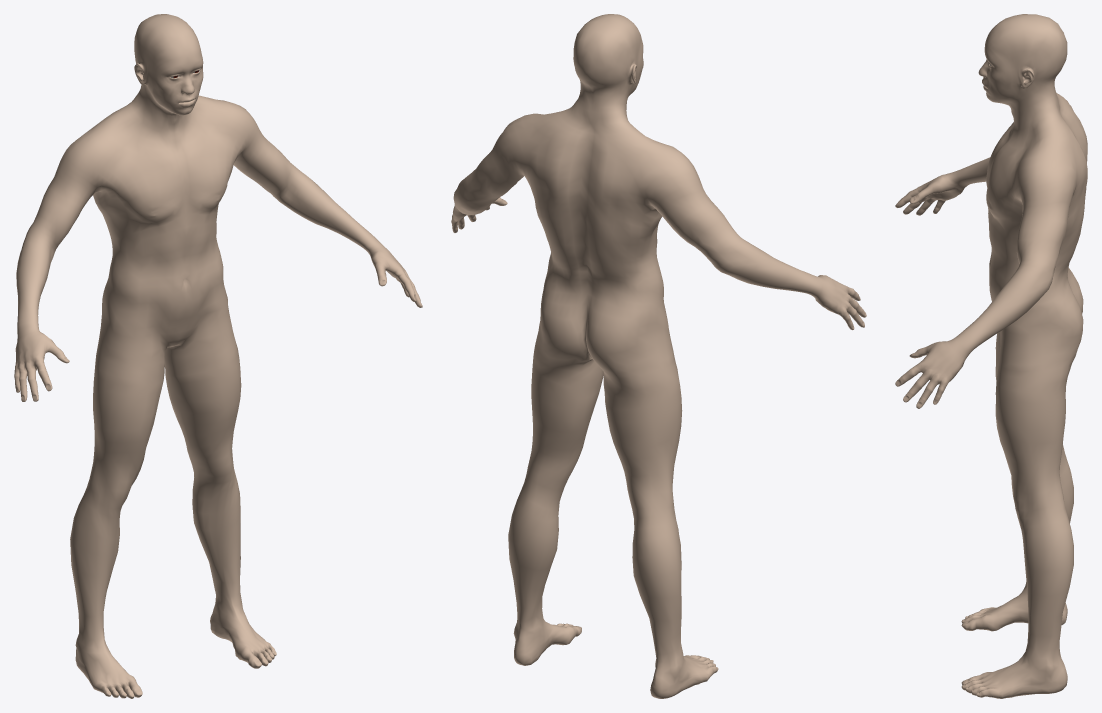
The model's file is Manequin.fbx.
3 renders of one model, left to right at view 1: azimuth 30°, elevation 25°; view 2: azimuth 150°, elevation 25°; view 3: azimuth 270°, elevation 25°, orthographic.
Parts seen in each view (by area): view 1: Manequin; view 2: Manequin; view 3: Manequin.
Part boxes in pixels (<box>): Manequin: <box>14,14,422,698</box>; Manequin: <box>451,14,866,698</box>; Manequin: <box>895,14,1087,698</box>.
Bounding box in the file's own units: 1166 × 1793 × 487.
2 materials, 1 textured.
